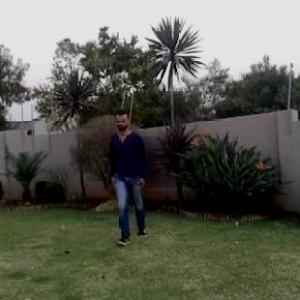follow: (112, 113, 147, 235)
